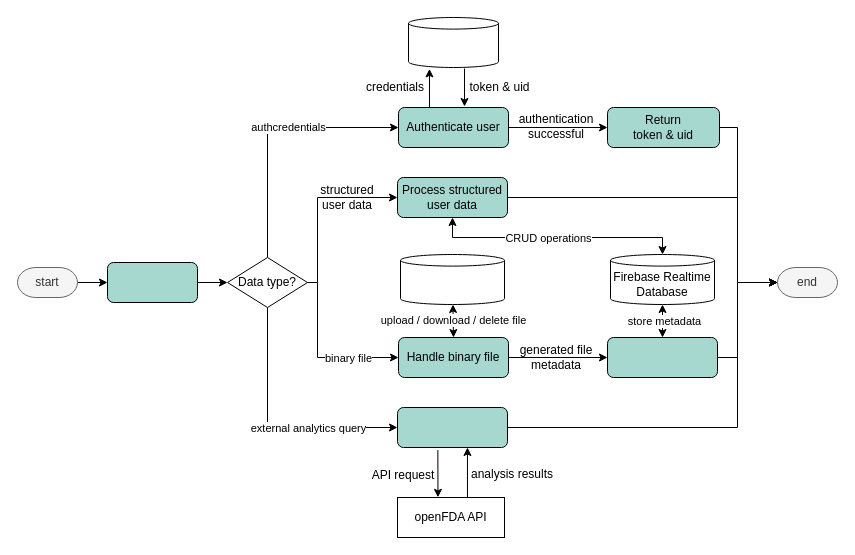
Some shapes in this 855 by 555 pixel diagram are drawn without their labels. Here are the shapes that lost their labels. From the top down, the box of each, then its label:
(408, 16, 498, 68): Firebase Authentication
(106, 262, 198, 302): User action produces data
(400, 254, 504, 304): Firebase Storage
(606, 336, 718, 378): Save file metadata and URL
(396, 406, 508, 448): Build risk analysis query
